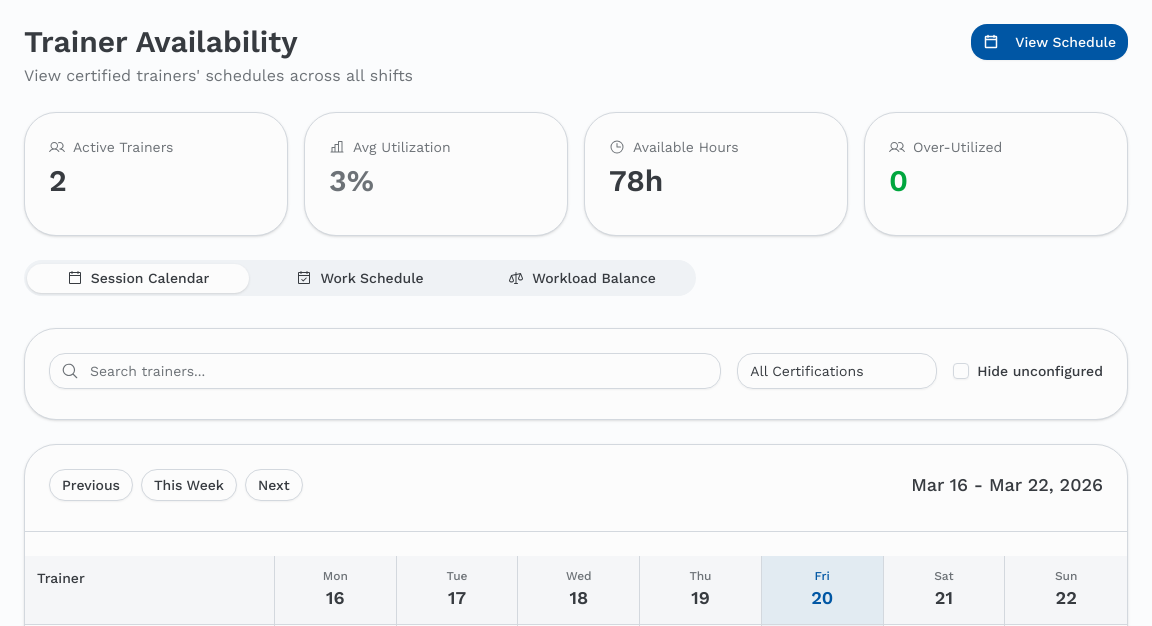
Test: TrainerAvailability › filters trainers by search query and shows empty state
Type "no-match" into the field with placeholder "Search trainers..." at (385, 371), box [49, 353, 721, 389]
(page scrolled)
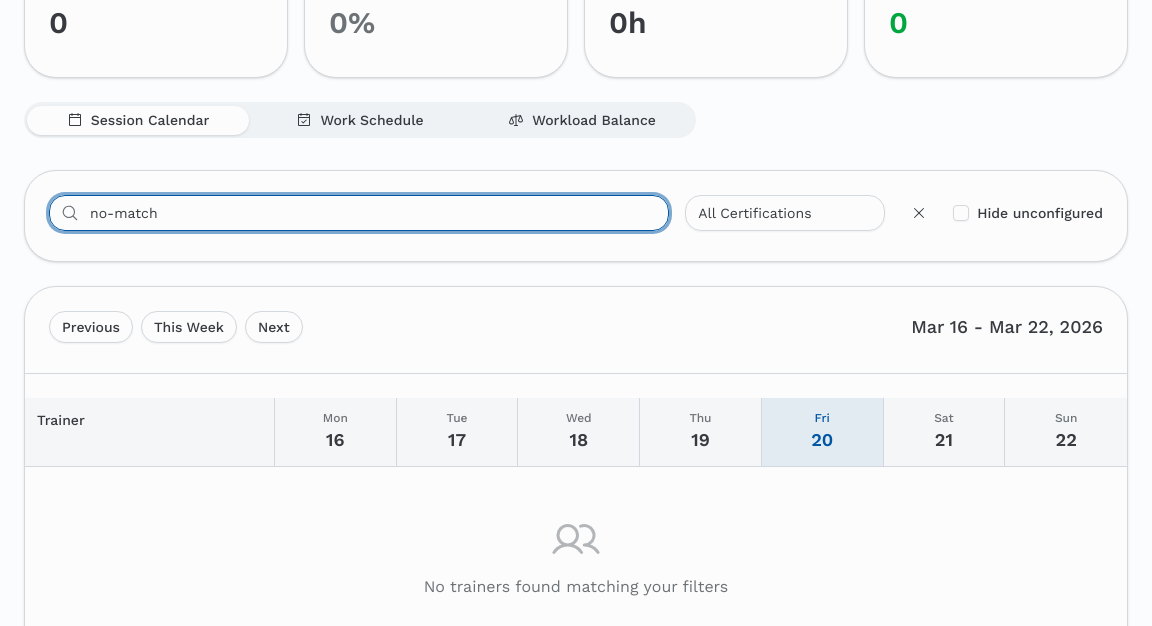
Expected: the text "No trainers found matching your filters" is shown, [424, 577, 728, 596]
